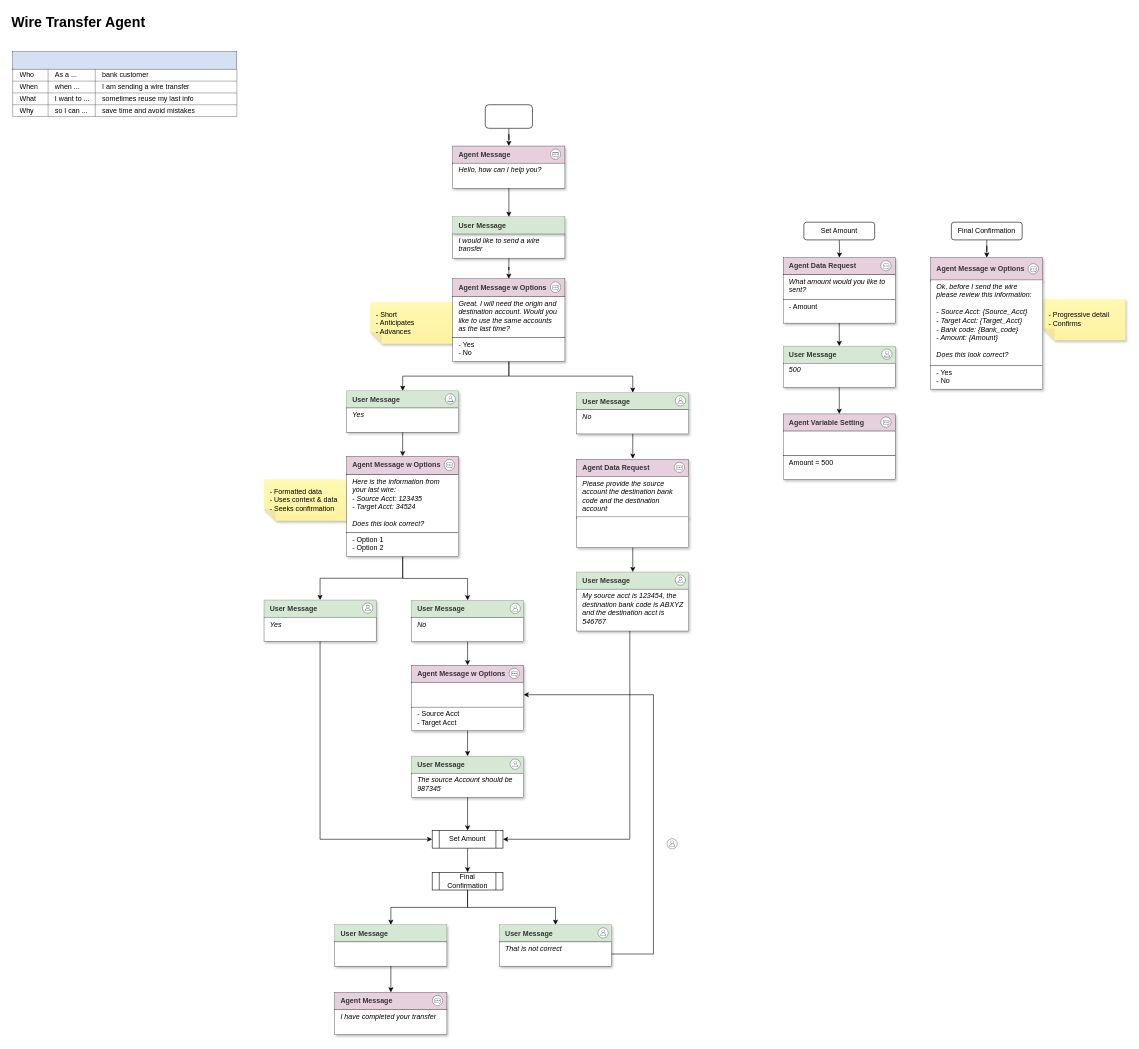
Some shapes in this 1139 by 1049 pixel diagram are drawn without their labels. Each missing label, with the centre of its shape:
- Source Acct - Destination Bank Code - Destination Acct: the point at 633,533
It looks good: the point at 391,954
Start: the point at 508,116
User Story: Wire Transfer: the point at 124,60
Which information would you like to update?: the point at 468,695
